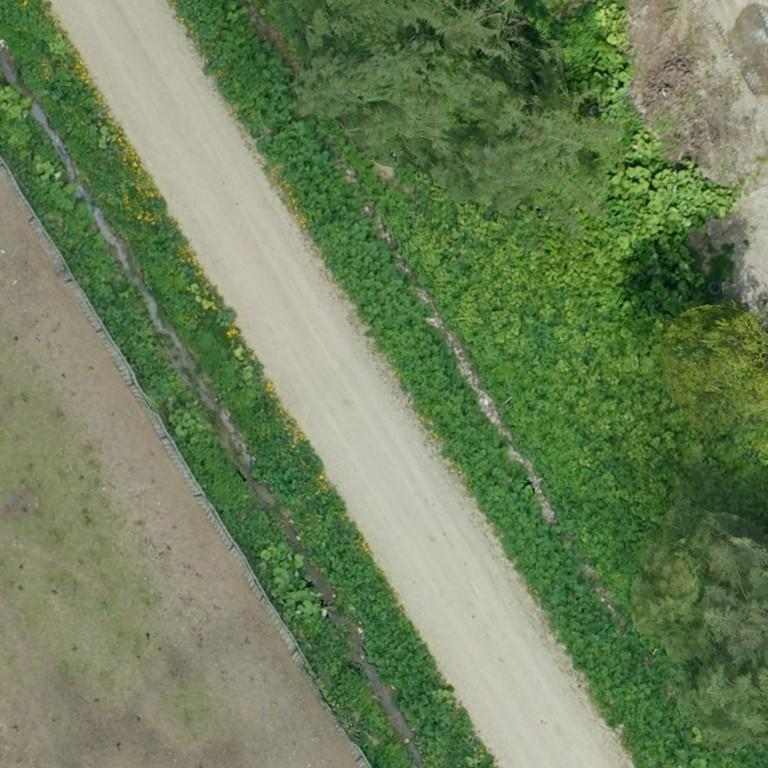hogweed: (181, 0, 767, 767), (377, 171, 676, 617), (252, 397, 474, 747), (65, 203, 117, 280), (50, 78, 96, 120), (0, 0, 53, 35), (148, 216, 180, 259)
